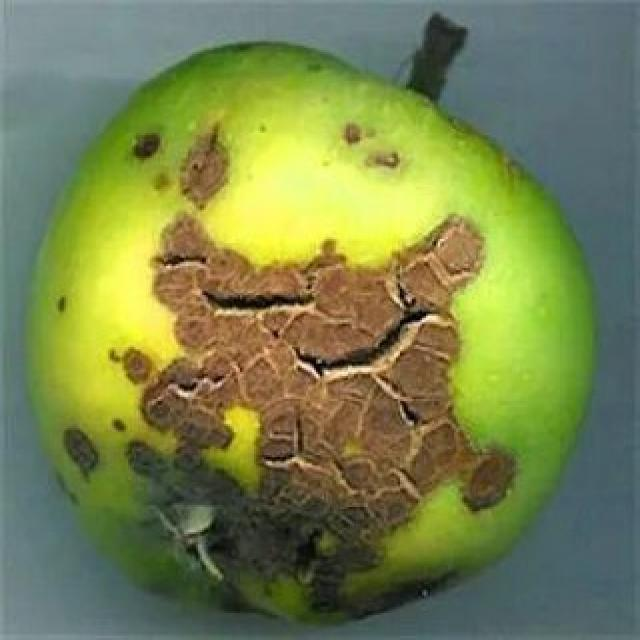Rotten Apple: (17, 41, 595, 634)
